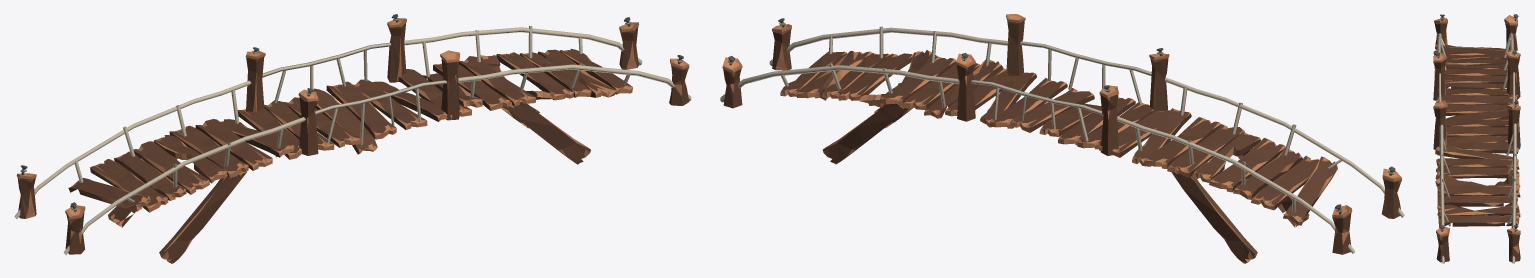
File: bridge.fbx
The picture shows the model from 3 angles, left to right: view 1: azimuth 30°, elevation 25°; view 2: azimuth 150°, elevation 25°; view 3: azimuth 270°, elevation 25°; orthographic projection. The views are drawn at different scales.
Visible parts, largest first — view 1: bridge2; view 2: bridge2; view 3: bridge2.
Part boxes in pixels (box(x1,y1,x2,y2)): bridge2: box(14, 14, 691, 263); bridge2: box(720, 14, 1404, 263); bridge2: box(1433, 14, 1520, 263).
Bounding box in the file's own units: 862 × 190 × 145.
